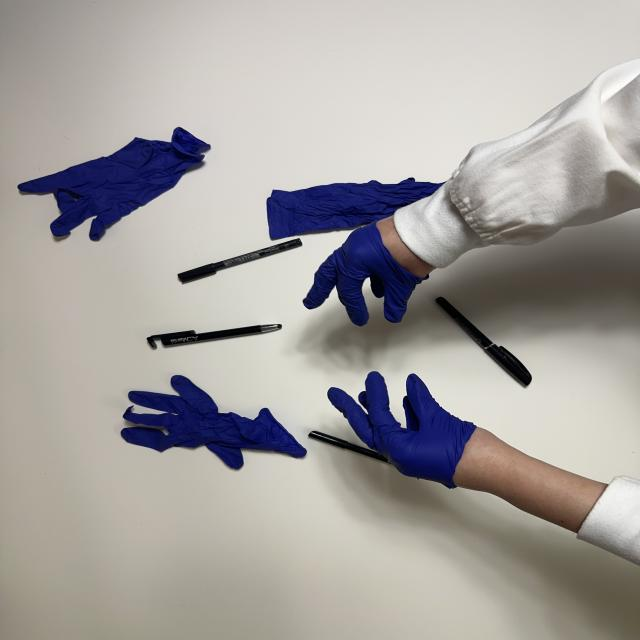glove_not_fitted: (326, 371, 504, 492), (305, 212, 439, 328)
